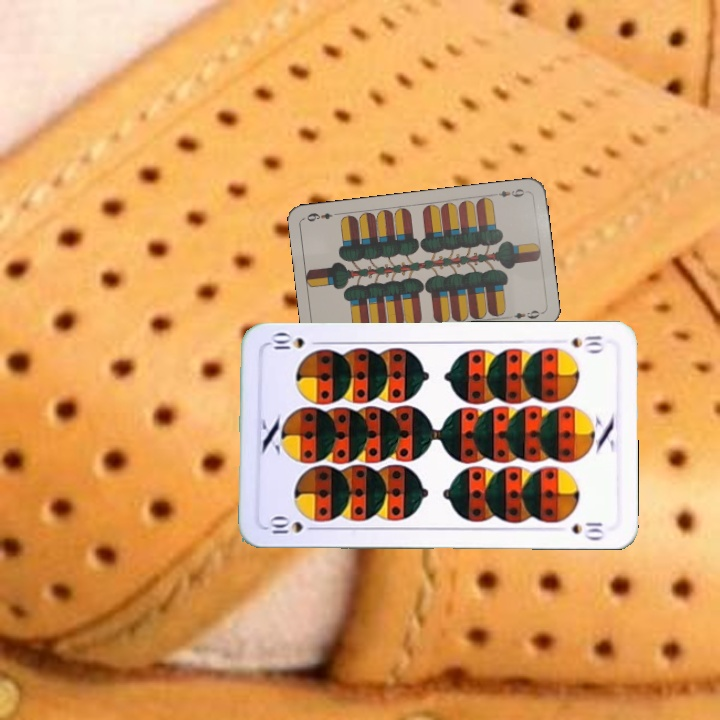E9: (495, 185, 530, 200)
S10: (263, 515, 322, 536), (567, 331, 605, 355)
